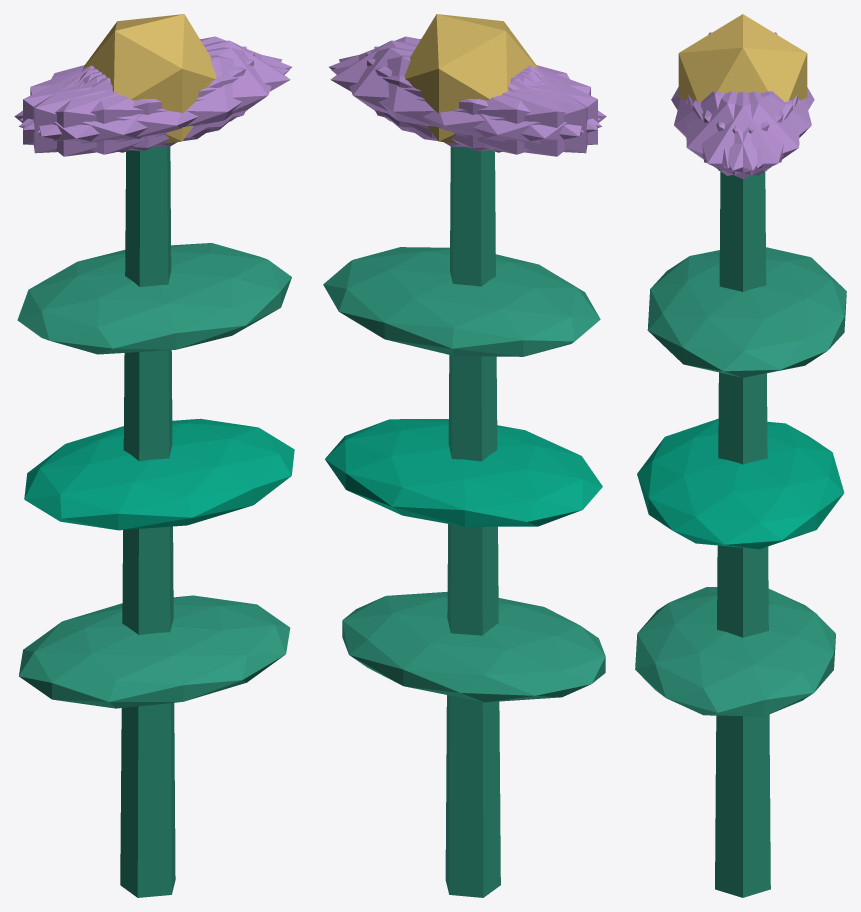
The model's file is dyschoriste-nagchana.glb.
3 renders of one model, left to right at view 1: azimuth 30°, elevation 25°; view 2: azimuth 150°, elevation 25°; view 3: azimuth 270°, elevation 25°, orthographic.
Parts seen in each view (by area): view 1: stem, leaf0, leaf1, leaf2, center, petal1, petal6, petal2, petal5, petal7, petal0, petal4 (+2 smaller); view 2: stem, leaf2, leaf1, leaf0, center, petal8, petal3, petal7, petal4, petal2, petal0, petal5 (+2 smaller); view 3: stem, leaf1, leaf2, leaf0, center, petal0, petal4, petal5, petal8, petal1.
Part boxes in pixels (bbox=[...]): stem: bbox=[120, 146, 175, 897]; leaf0: bbox=[19, 595, 290, 708]; leaf1: bbox=[24, 418, 294, 530]; leaf2: bbox=[17, 243, 291, 354]; center: bbox=[83, 14, 216, 143]; petal1: bbox=[19, 55, 289, 154]; petal6: bbox=[14, 67, 210, 156]; petal2: bbox=[33, 46, 246, 153]; petal5: bbox=[37, 47, 282, 147]; petal7: bbox=[23, 52, 254, 150]; petal0: bbox=[82, 40, 290, 138]; petal4: bbox=[20, 36, 291, 129]; stem: bbox=[445, 146, 500, 897]; leaf2: bbox=[323, 247, 600, 356]; leaf1: bbox=[325, 419, 602, 526]; leaf0: bbox=[342, 591, 605, 702]; center: bbox=[404, 14, 538, 143]; petal8: bbox=[331, 55, 601, 154]; petal3: bbox=[410, 67, 606, 156]; petal7: bbox=[374, 46, 587, 153]; petal4: bbox=[339, 47, 583, 147]; petal2: bbox=[366, 52, 597, 150]; petal0: bbox=[330, 40, 538, 138]; petal5: bbox=[329, 36, 600, 129]; stem: bbox=[715, 171, 770, 897]; leaf1: bbox=[637, 418, 844, 549]; leaf2: bbox=[647, 247, 846, 377]; leaf0: bbox=[635, 587, 835, 716]; center: bbox=[678, 14, 807, 101]; petal0: bbox=[687, 91, 797, 178]; petal4: bbox=[692, 91, 799, 175]; petal5: bbox=[686, 91, 792, 175]; petal8: bbox=[702, 91, 811, 168]; petal1: bbox=[674, 91, 783, 168].
Bounding box in the file's own units: 0.1452 × 0.4492 × 0.1009.
